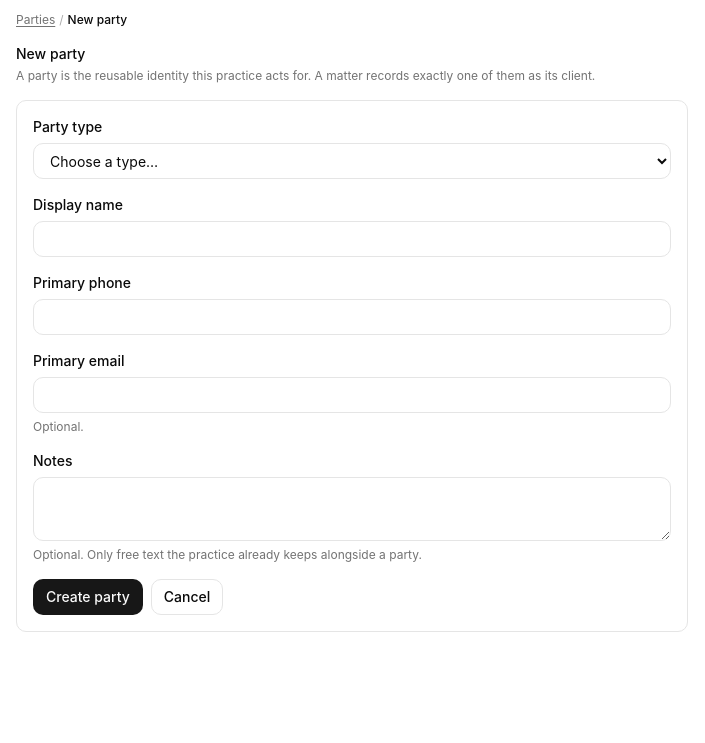
PartyCreatePage › shows the backend's message when creation is rejected
Select "Organization" in the dropdown labelled "Party type" at (352, 161), box [33,143,671,179]
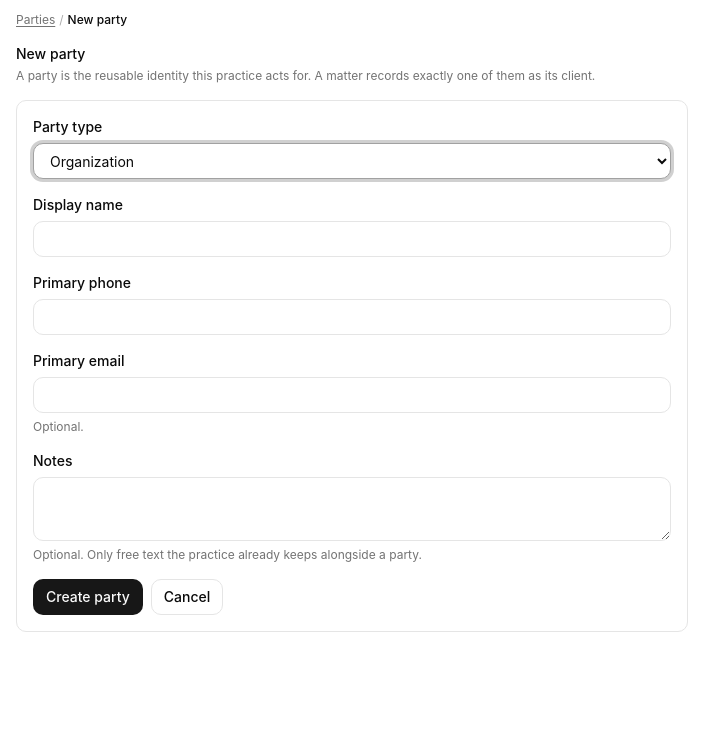
Type "Northwind Traders" into the field labelled "Display name" at (352, 239), box [33,221,671,257]
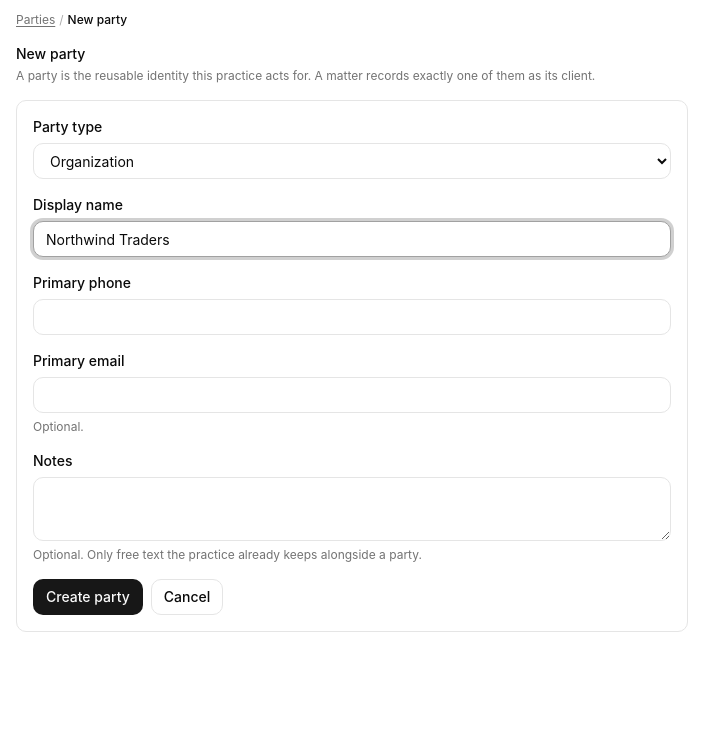
Type "+91 9876543210" into the field labelled "Primary phone" at (352, 317), box [33,299,671,335]
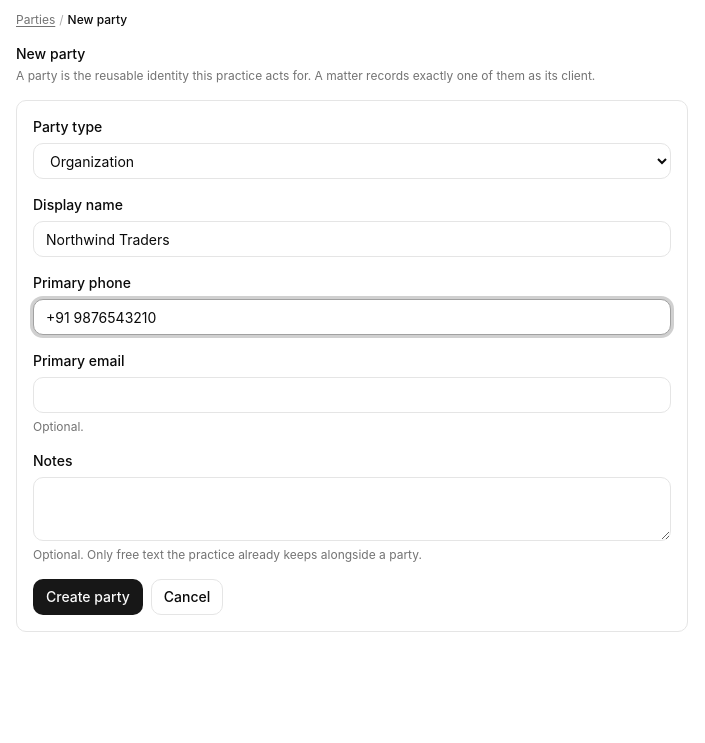
Click the button "Create party" at (88, 597), box [33,579,143,615]
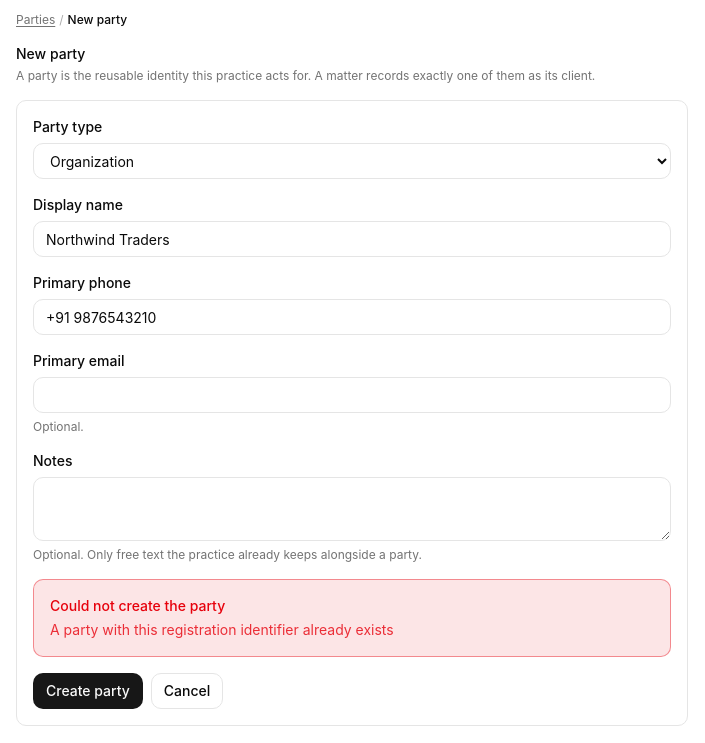
Now the message shows "A party with this registration identifier already exists", box [50,621,394,638]
